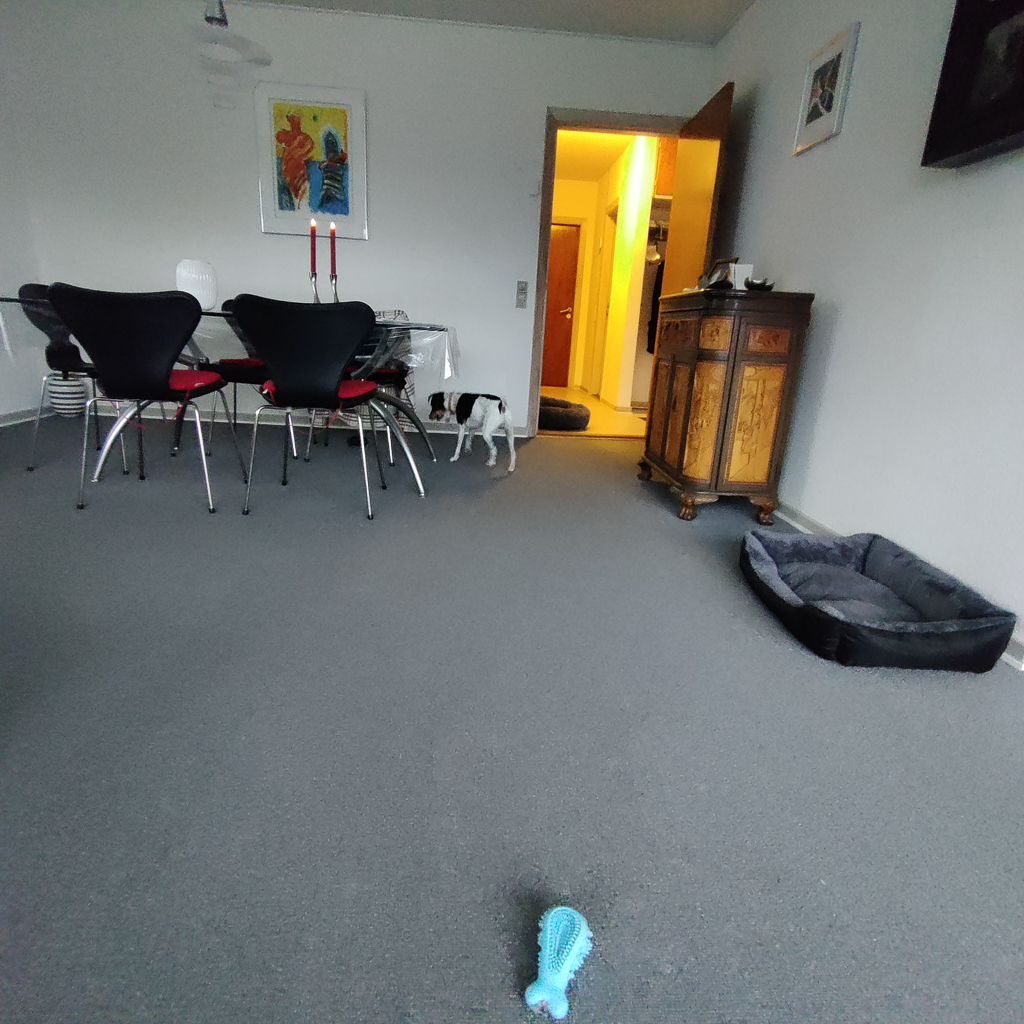Dog: (419, 371, 524, 484)
